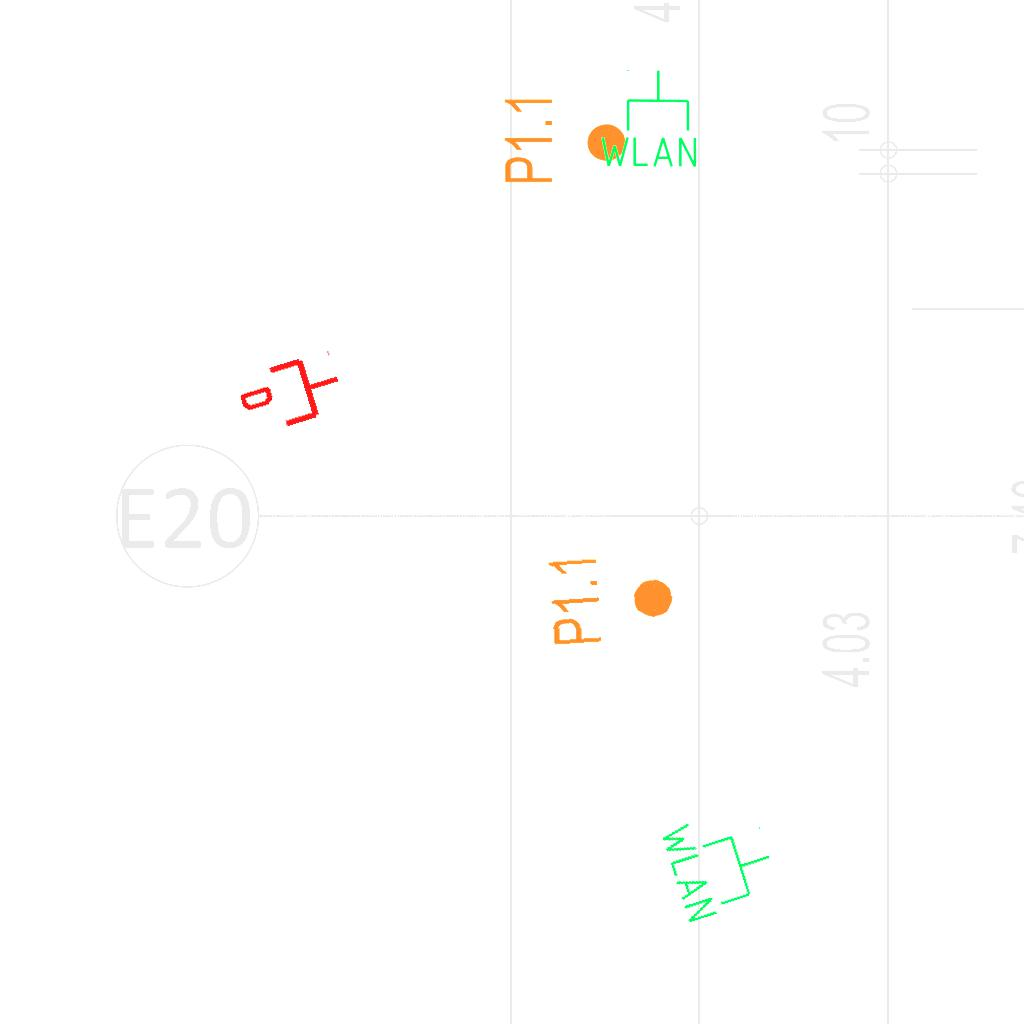Datenanschluss_einfach: (233, 345, 350, 441)
Downlight_LED_Einbauleuchten_Flur: (544, 547, 679, 649), (501, 93, 629, 186)
WLAN: (654, 796, 786, 929), (596, 67, 701, 171)
